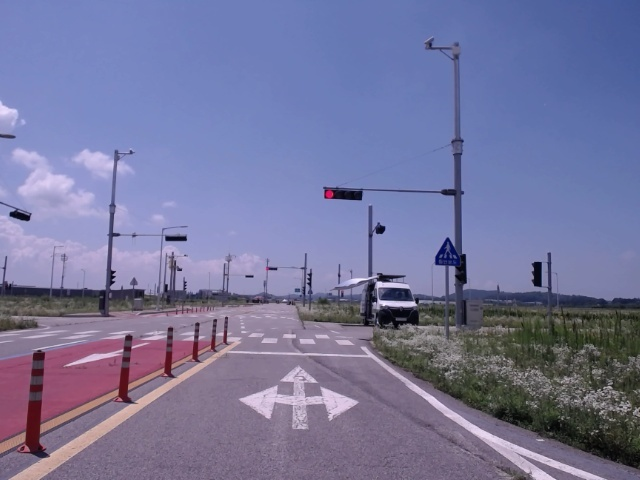red_4: (323, 188, 362, 200)
